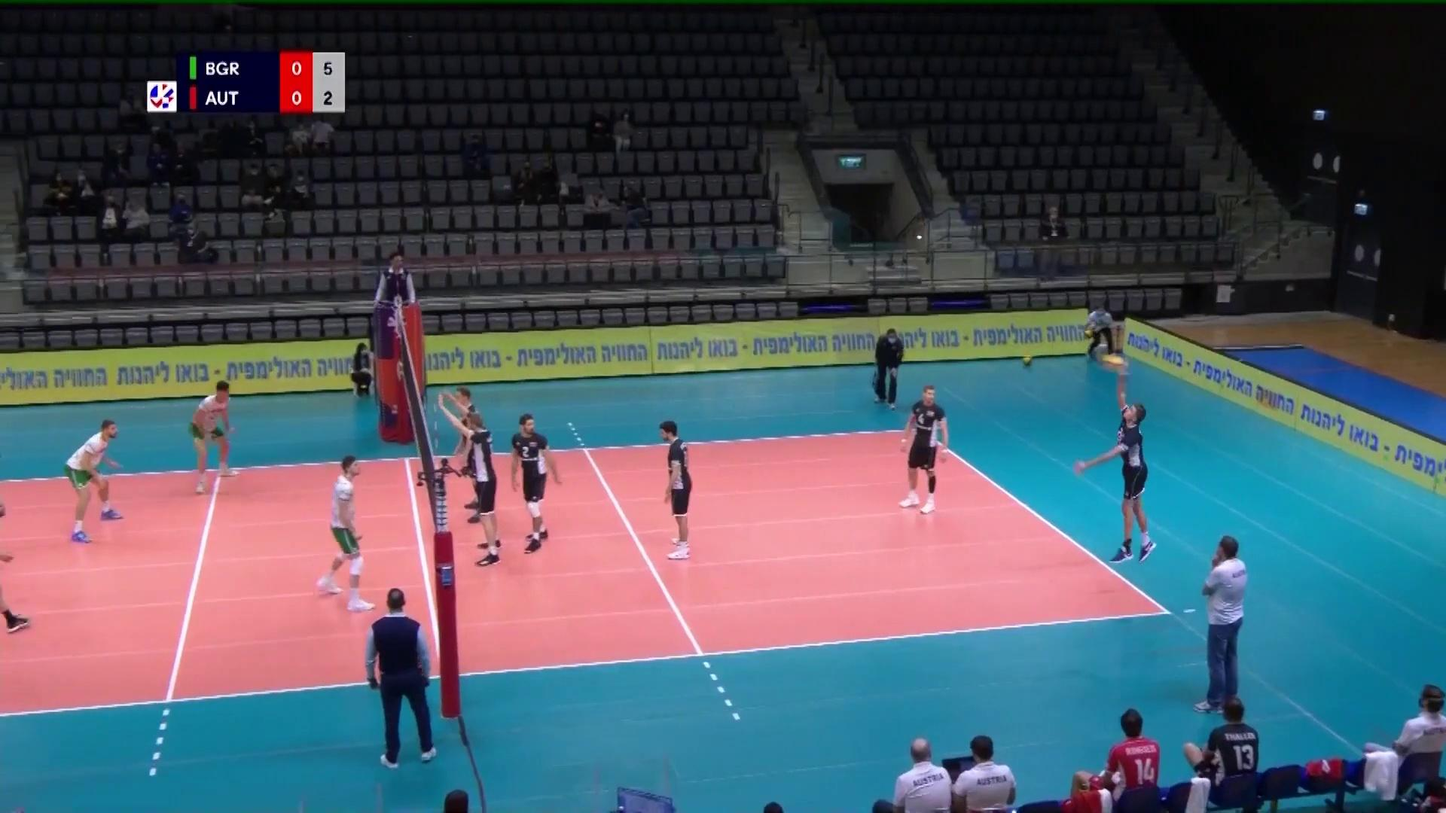ball: (1101, 352, 1127, 371)
